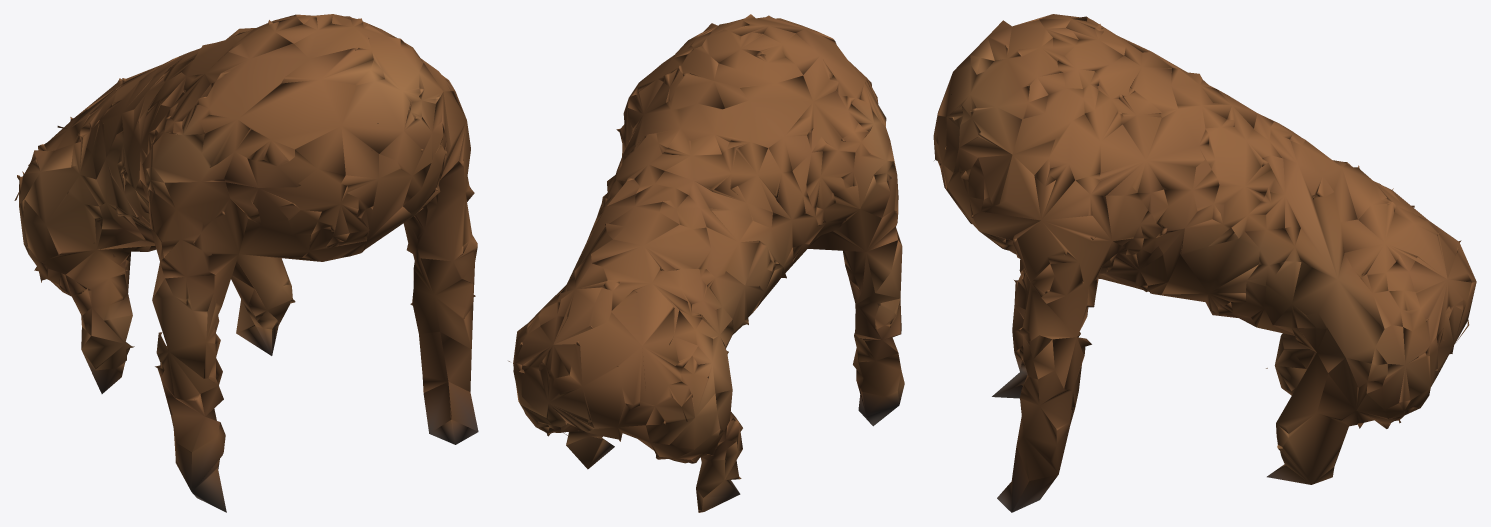
The model's file is orang.glb.
The picture shows the model from 3 angles, left to right: view 1: azimuth 30°, elevation 25°; view 2: azimuth 150°, elevation 25°; view 3: azimuth 270°, elevation 25°; orthographic projection. The views are drawn at different scales.
Visible parts, largest first — view 1: lack; view 2: lack; view 3: lack.
Part boxes in pixels (bbox=[...]): lack: bbox=[14, 14, 478, 512]; lack: bbox=[508, 14, 904, 512]; lack: bbox=[933, 14, 1476, 512].
Size of the model in its own units: 0.82 by 1.1 by 1.26.
